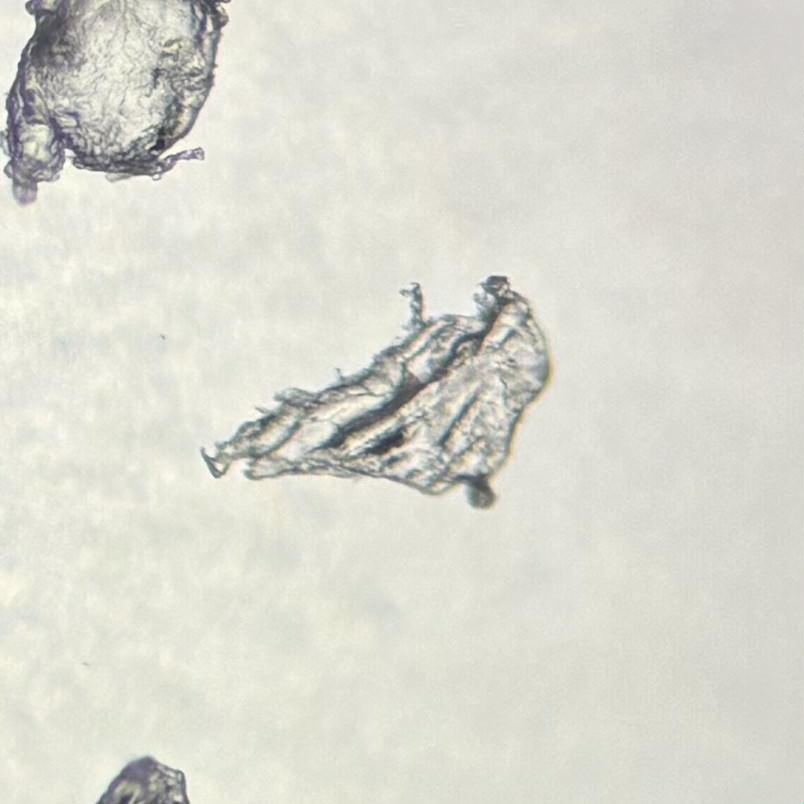microplastic: (199, 272, 553, 513), (1, 1, 231, 205), (94, 755, 188, 804)
